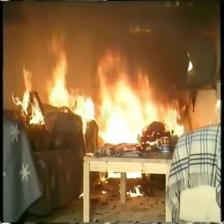fire: (94, 69, 183, 140), (48, 34, 91, 121), (12, 65, 45, 126)
